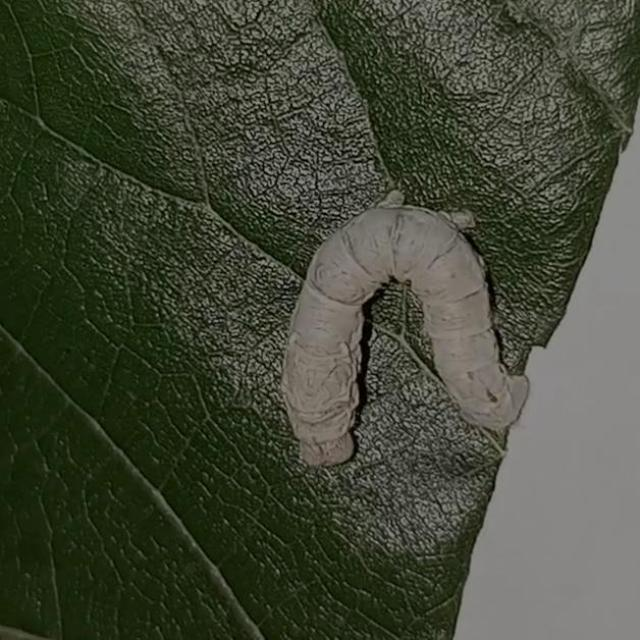Healthy: (248, 134, 560, 568)
